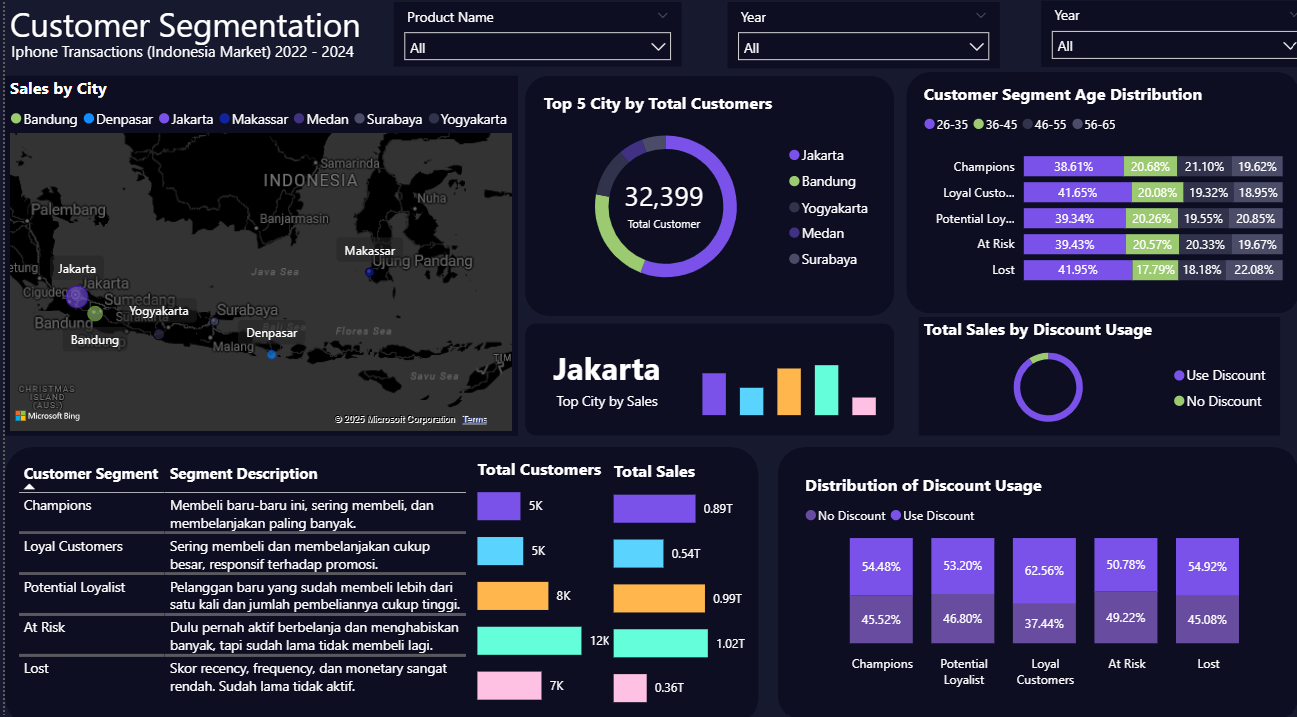

This screenshot's page, from the dashboard's own definition file:
{"tool":"powerbi","page":{"name":"Customer Segmentation","canvas":[1280,720],"ordinal":1},"visuals":[{"type":"textbox","box":[0,0,533.9,74],"z":0},{"type":"slicer","fields":{"Values":["data_final.product_name"]},"box":[380.1,5.5,281.3,63.1],"z":1000},{"type":"slicer","fields":{"Values":["DateTable.Date.Variation.Date Hierarchy.Year"]},"box":[706.7,5.5,266.2,64.5],"z":2000},{"type":"textbox","box":[1.3,37.7,477.4,40.3],"z":3000},{"type":"shape","box":[756.2,440,511.2,268.8],"z":4000},{"type":"hundredPercentStackedColumnChart","title":"Distribution of Discount Usage","fields":{"Series":["data_final.Use Diskon"],"Category":["RFMTable.Customer Segment"],"Y":["Count(data_final.transaction_date)"]},"box":[777.5,466.2,468.8,217.5],"z":5000},{"type":"shape","box":[0,440,737.3,272.7],"z":6000},{"type":"map","title":"Sales by City","fields":{"Category":["City_Coordinates.City"],"Y":["Avg(City_Coordinates.Latitude)"],"X":["Avg(City_Coordinates.Longitude)"],"Size":["Sum(data_final.total_harga)"],"Series":["data_final.city"]},"box":[0,77,501.4,352.2],"z":7000},{"type":"tableEx","title":"Description","fields":{"Values":["CustomerSegmentTable.Customer Segment","CustomerSegmentTable.Segment Description"]},"box":[7.5,448.8,457.5,260],"z":8000},{"type":"clusteredBarChart","title":"Total Customers","fields":{"Y":["Count(data_final.customer_id)"],"Category":["CustomerSegmentTable.Customer Segment"]},"box":[457.4,450.2,150.9,244.5],"z":9000},{"type":"barChart","title":"Total Sales","fields":{"Y":["Sum(data_final.total_harga)"],"Category":["CustomerSegmentTable.Customer Segment"]},"box":[591,452.9,140,244.5],"z":10000},{"type":"shape","box":[508.8,77.5,361.2,235],"z":11000},{"type":"donutChart","title":"Top 5 City by Total Customers","fields":{"Category":["data_final.city"],"Y":["Count(data_final.customer_id)"]},"box":[522.5,91.2,336.2,205],"z":12000},{"type":"card","fields":{"Values":["data_final.Total Customer"]},"box":[572.5,166.2,145,71.2],"z":13000},{"type":"shape","box":[881.2,73.8,386.2,236.2],"z":14000},{"type":"hundredPercentStackedBarChart","title":"Customer Segment Age Distribution","fields":{"Category":["CustomerSegmentTable.Customer Segment"],"Y":["Count(data_final.customer_id)"],"Series":["data_final.usia_group"]},"box":[893.8,83.8,361.2,210],"z":15000},{"type":"shape","box":[508.8,318.8,361.2,110],"z":16000},{"type":"card","fields":{"Values":["data_final.Top City by Sales"]},"box":[517.5,330,143.8,85],"z":17000},{"type":"clusteredColumnChart","fields":{"Category":["CustomerSegmentTable.Customer Segment"],"Y":["Sum(data_final.customer_id)"]},"box":[677.5,326.2,181.2,88.8],"z":18000},{"type":"slicer","fields":{"Values":["DateTable.Date.Variation.Date Hierarchy.Year"]},"box":[1014.1,4.1,266.2,64.5],"z":19000},{"type":"donutChart","title":"Total Sales by Discount Usage","fields":{"Y":["Sum(data_final.total_harga)"],"Category":["data_final.Use Diskon"]},"box":[893.8,312.5,353.8,116.2],"z":20000}]}

Visuals, with their boxes in screenshot pixels (x1, y1, x2, y2), scaled from the page's 1280x720 canvas onto the 1297x717 screenshot:
textbox: <bbox>0, 0, 541, 74</bbox>
slicer - data_final.product_name: <bbox>385, 5, 670, 68</bbox>
slicer - DateTable.Date.Variation.Date Hierarchy.Year: <bbox>716, 5, 986, 70</bbox>
textbox: <bbox>1, 38, 485, 78</bbox>
shape: <bbox>766, 438, 1284, 706</bbox>
"Distribution of Discount Usage" hundredPercentStackedColumnChart: <bbox>788, 464, 1263, 681</bbox>
shape: <bbox>0, 438, 747, 710</bbox>
"Sales by City" map: <bbox>0, 77, 508, 427</bbox>
"Description" tableEx: <bbox>8, 447, 471, 706</bbox>
"Total Customers" clusteredBarChart: <bbox>463, 448, 616, 692</bbox>
"Total Sales" barChart: <bbox>599, 451, 741, 694</bbox>
shape: <bbox>516, 77, 882, 311</bbox>
"Top 5 City by Total Customers" donutChart: <bbox>529, 91, 870, 295</bbox>
card - data_final.Total Customer: <bbox>580, 166, 727, 236</bbox>
shape: <bbox>893, 73, 1284, 309</bbox>
"Customer Segment Age Distribution" hundredPercentStackedBarChart: <bbox>906, 83, 1272, 293</bbox>
shape: <bbox>516, 317, 882, 427</bbox>
card - data_final.Top City by Sales: <bbox>524, 329, 670, 413</bbox>
clusteredColumnChart - CustomerSegmentTable.Customer Segment x Sum(data_final.customer_id): <bbox>686, 325, 870, 413</bbox>
slicer - DateTable.Date.Variation.Date Hierarchy.Year: <bbox>1028, 4, 1296, 68</bbox>
"Total Sales by Discount Usage" donutChart: <bbox>906, 311, 1264, 427</bbox>
